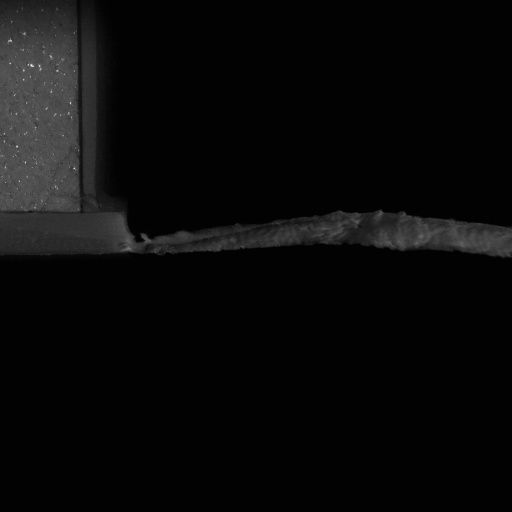changdai: (95, 203, 511, 263)
